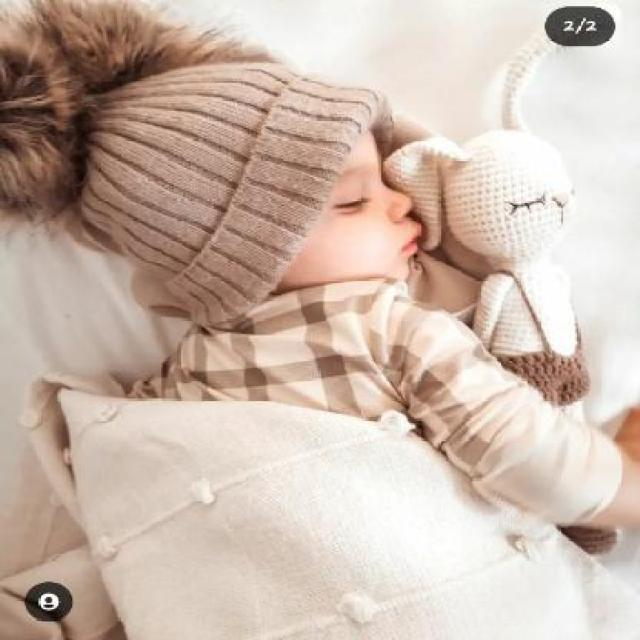baby: (56, 57, 638, 545)
